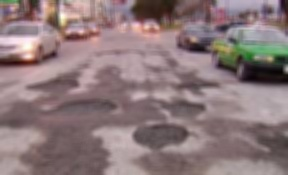pothole: (243, 117, 286, 155), (127, 123, 194, 147), (38, 96, 119, 114), (157, 98, 209, 116), (25, 76, 80, 90), (175, 80, 220, 94), (57, 71, 83, 77), (76, 63, 88, 67)
